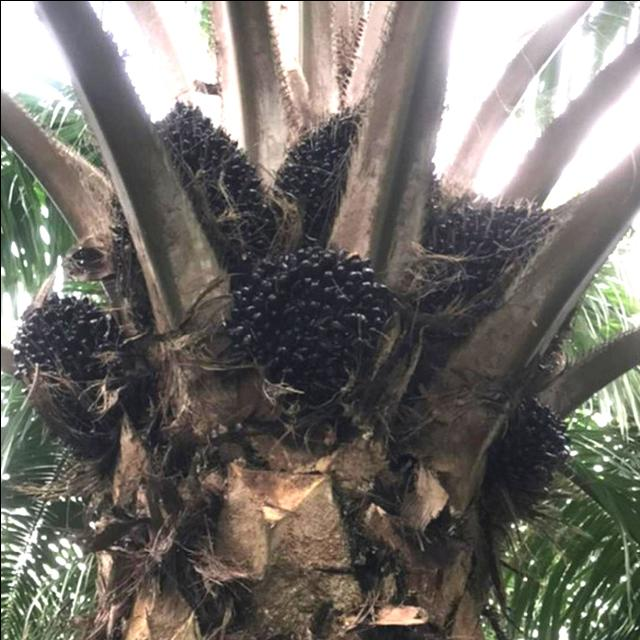almost: (104, 100, 280, 310), (274, 85, 445, 258), (222, 245, 394, 404), (428, 192, 582, 354), (12, 288, 148, 450), (484, 393, 574, 527)
